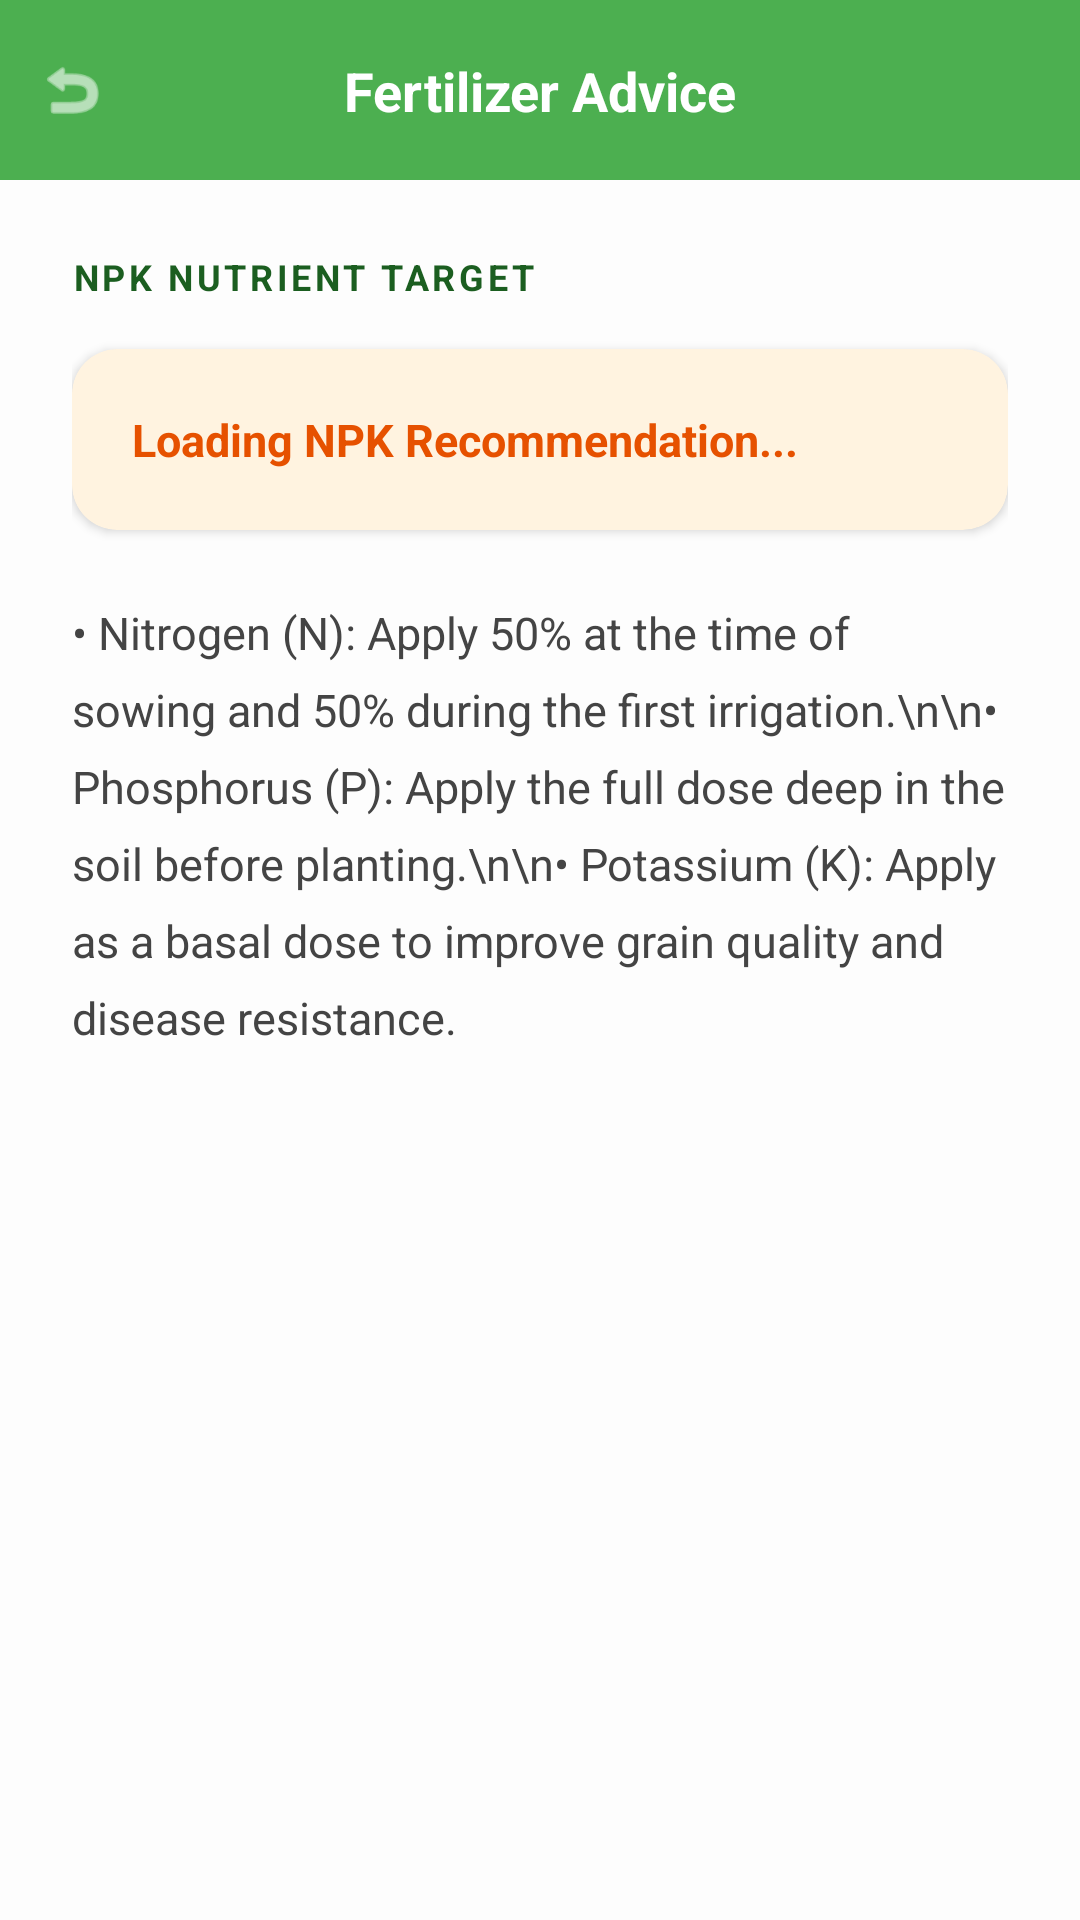

Point at icon controls on the screen. Image size 1080x1920, points as point (x, y).
revert: point (73, 90)
